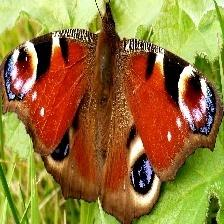butterfly: (0, 3, 223, 224)
